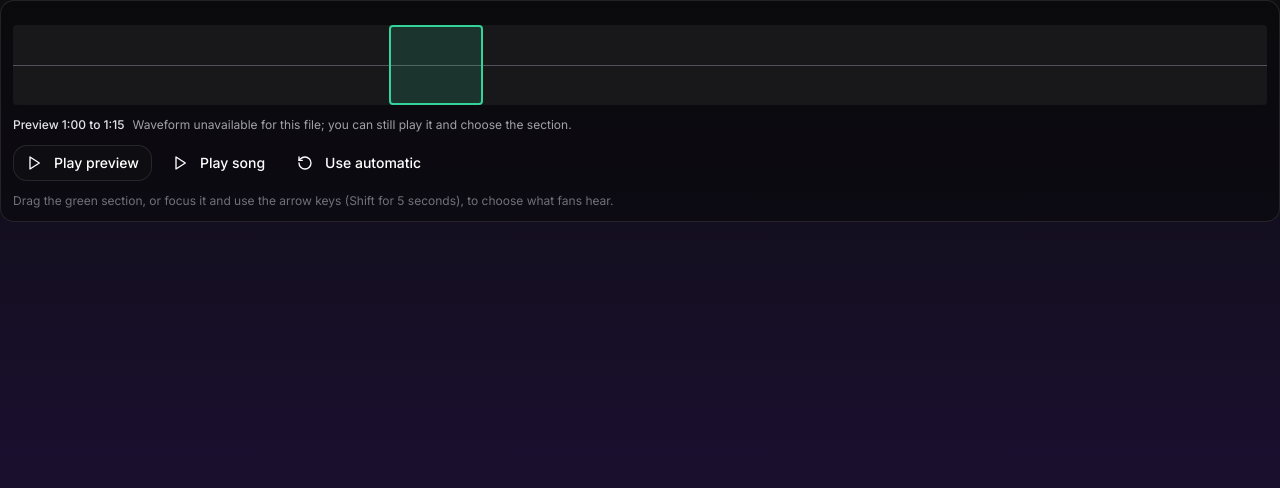
Test case: preview picker › still plays and selects without a waveform, and says when playback fails
Expected: the text "Waveform unavailable for this file" is shown, [132,117,572,132]
Click the button "Play preview" at coordinates (82, 163), box [13,145,152,181]
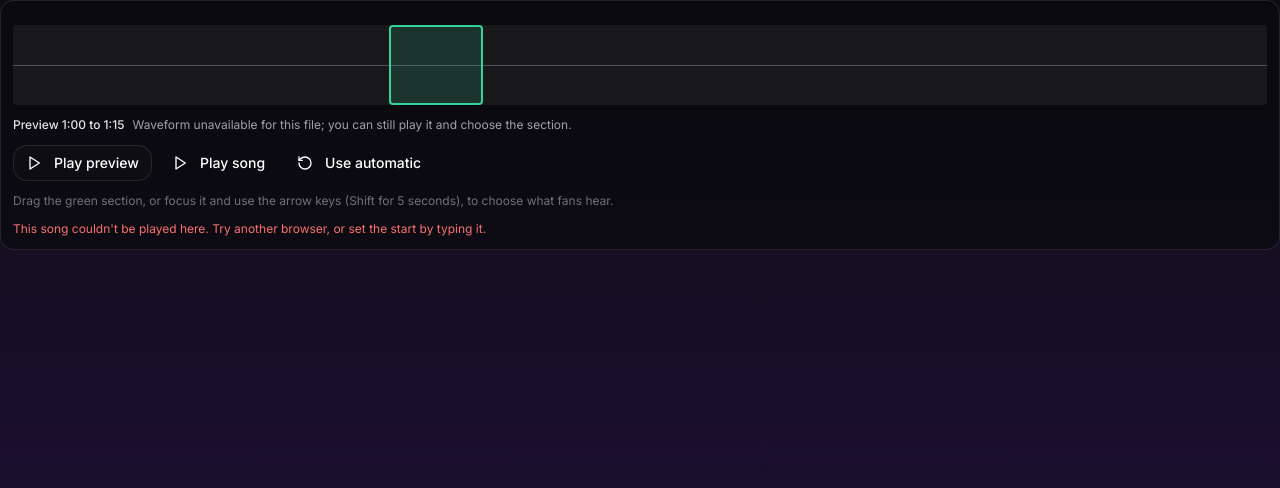
Expected: the message shows "This song couldn't be played here", [13,221,486,236]
